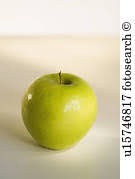apple: (20, 74, 98, 151)
